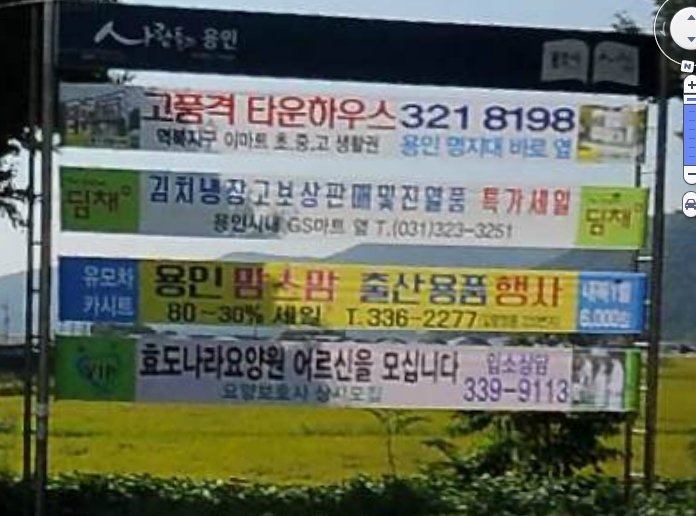banner: (57, 322, 660, 421), (47, 72, 647, 170), (49, 160, 662, 253), (45, 245, 661, 332)
